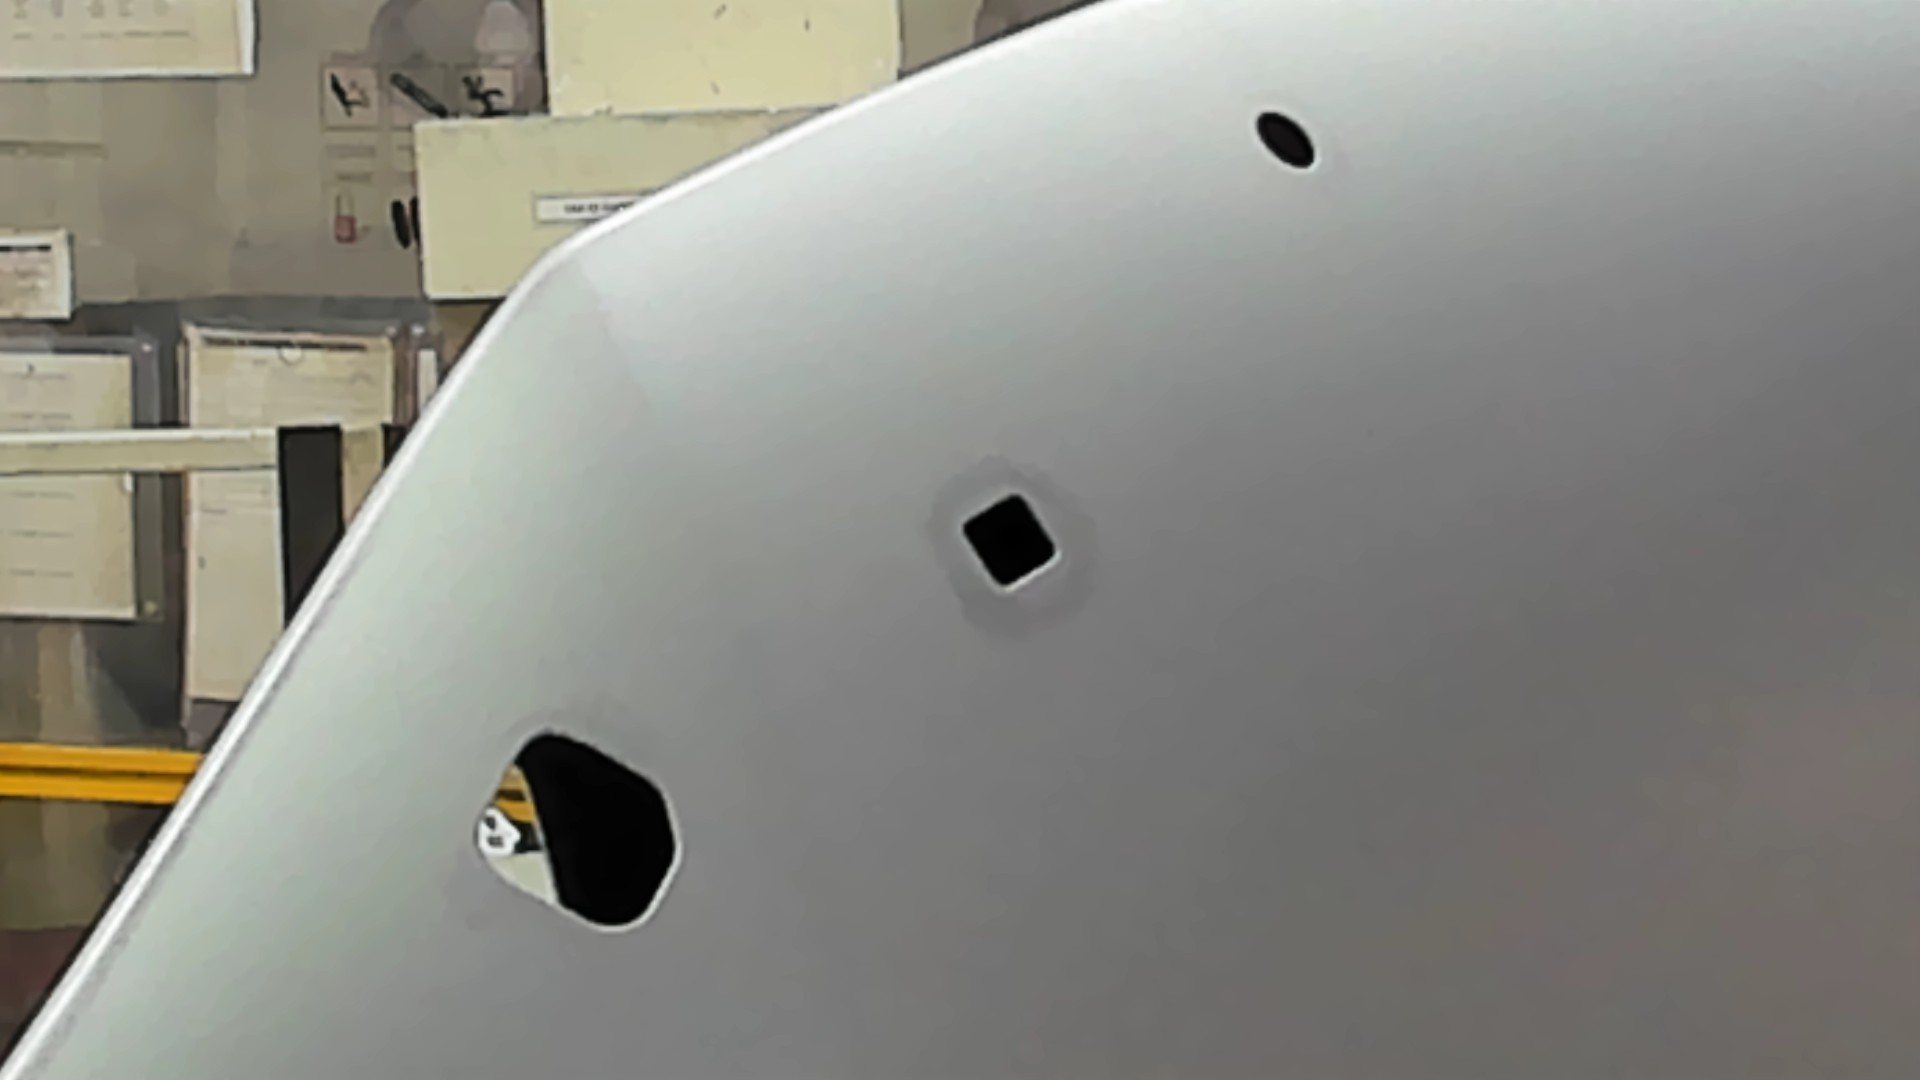chico: (1255, 108, 1319, 170)
grande: (465, 724, 688, 938)
mediano: (948, 487, 1068, 599)
